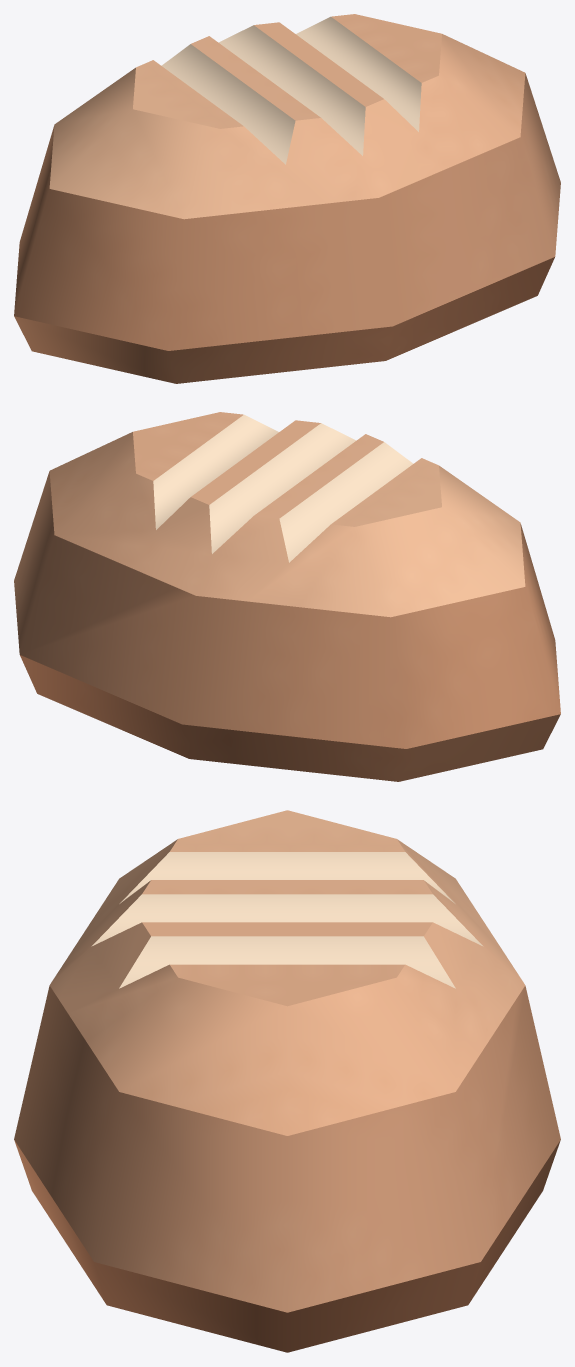
File: bread.glb
The picture shows the model from 3 angles, top to bottom: view 1: azimuth 30°, elevation 25°; view 2: azimuth 150°, elevation 25°; view 3: azimuth 270°, elevation 25°; orthographic projection. The views are drawn at different scales.
Parts seen in each view (by area): view 1: loafRound; view 2: loafRound; view 3: loafRound.
Part boxes in pixels (x1=…): loafRound: x1=14, y1=14, x2=560, y2=383; loafRound: x1=14, y1=412, x2=560, y2=781; loafRound: x1=14, y1=810, x2=560, y2=1352.
Bounding box in the file's own units: 0.4907 × 0.1864 × 0.3271.
Materials: 1 (1 with a texture image).
